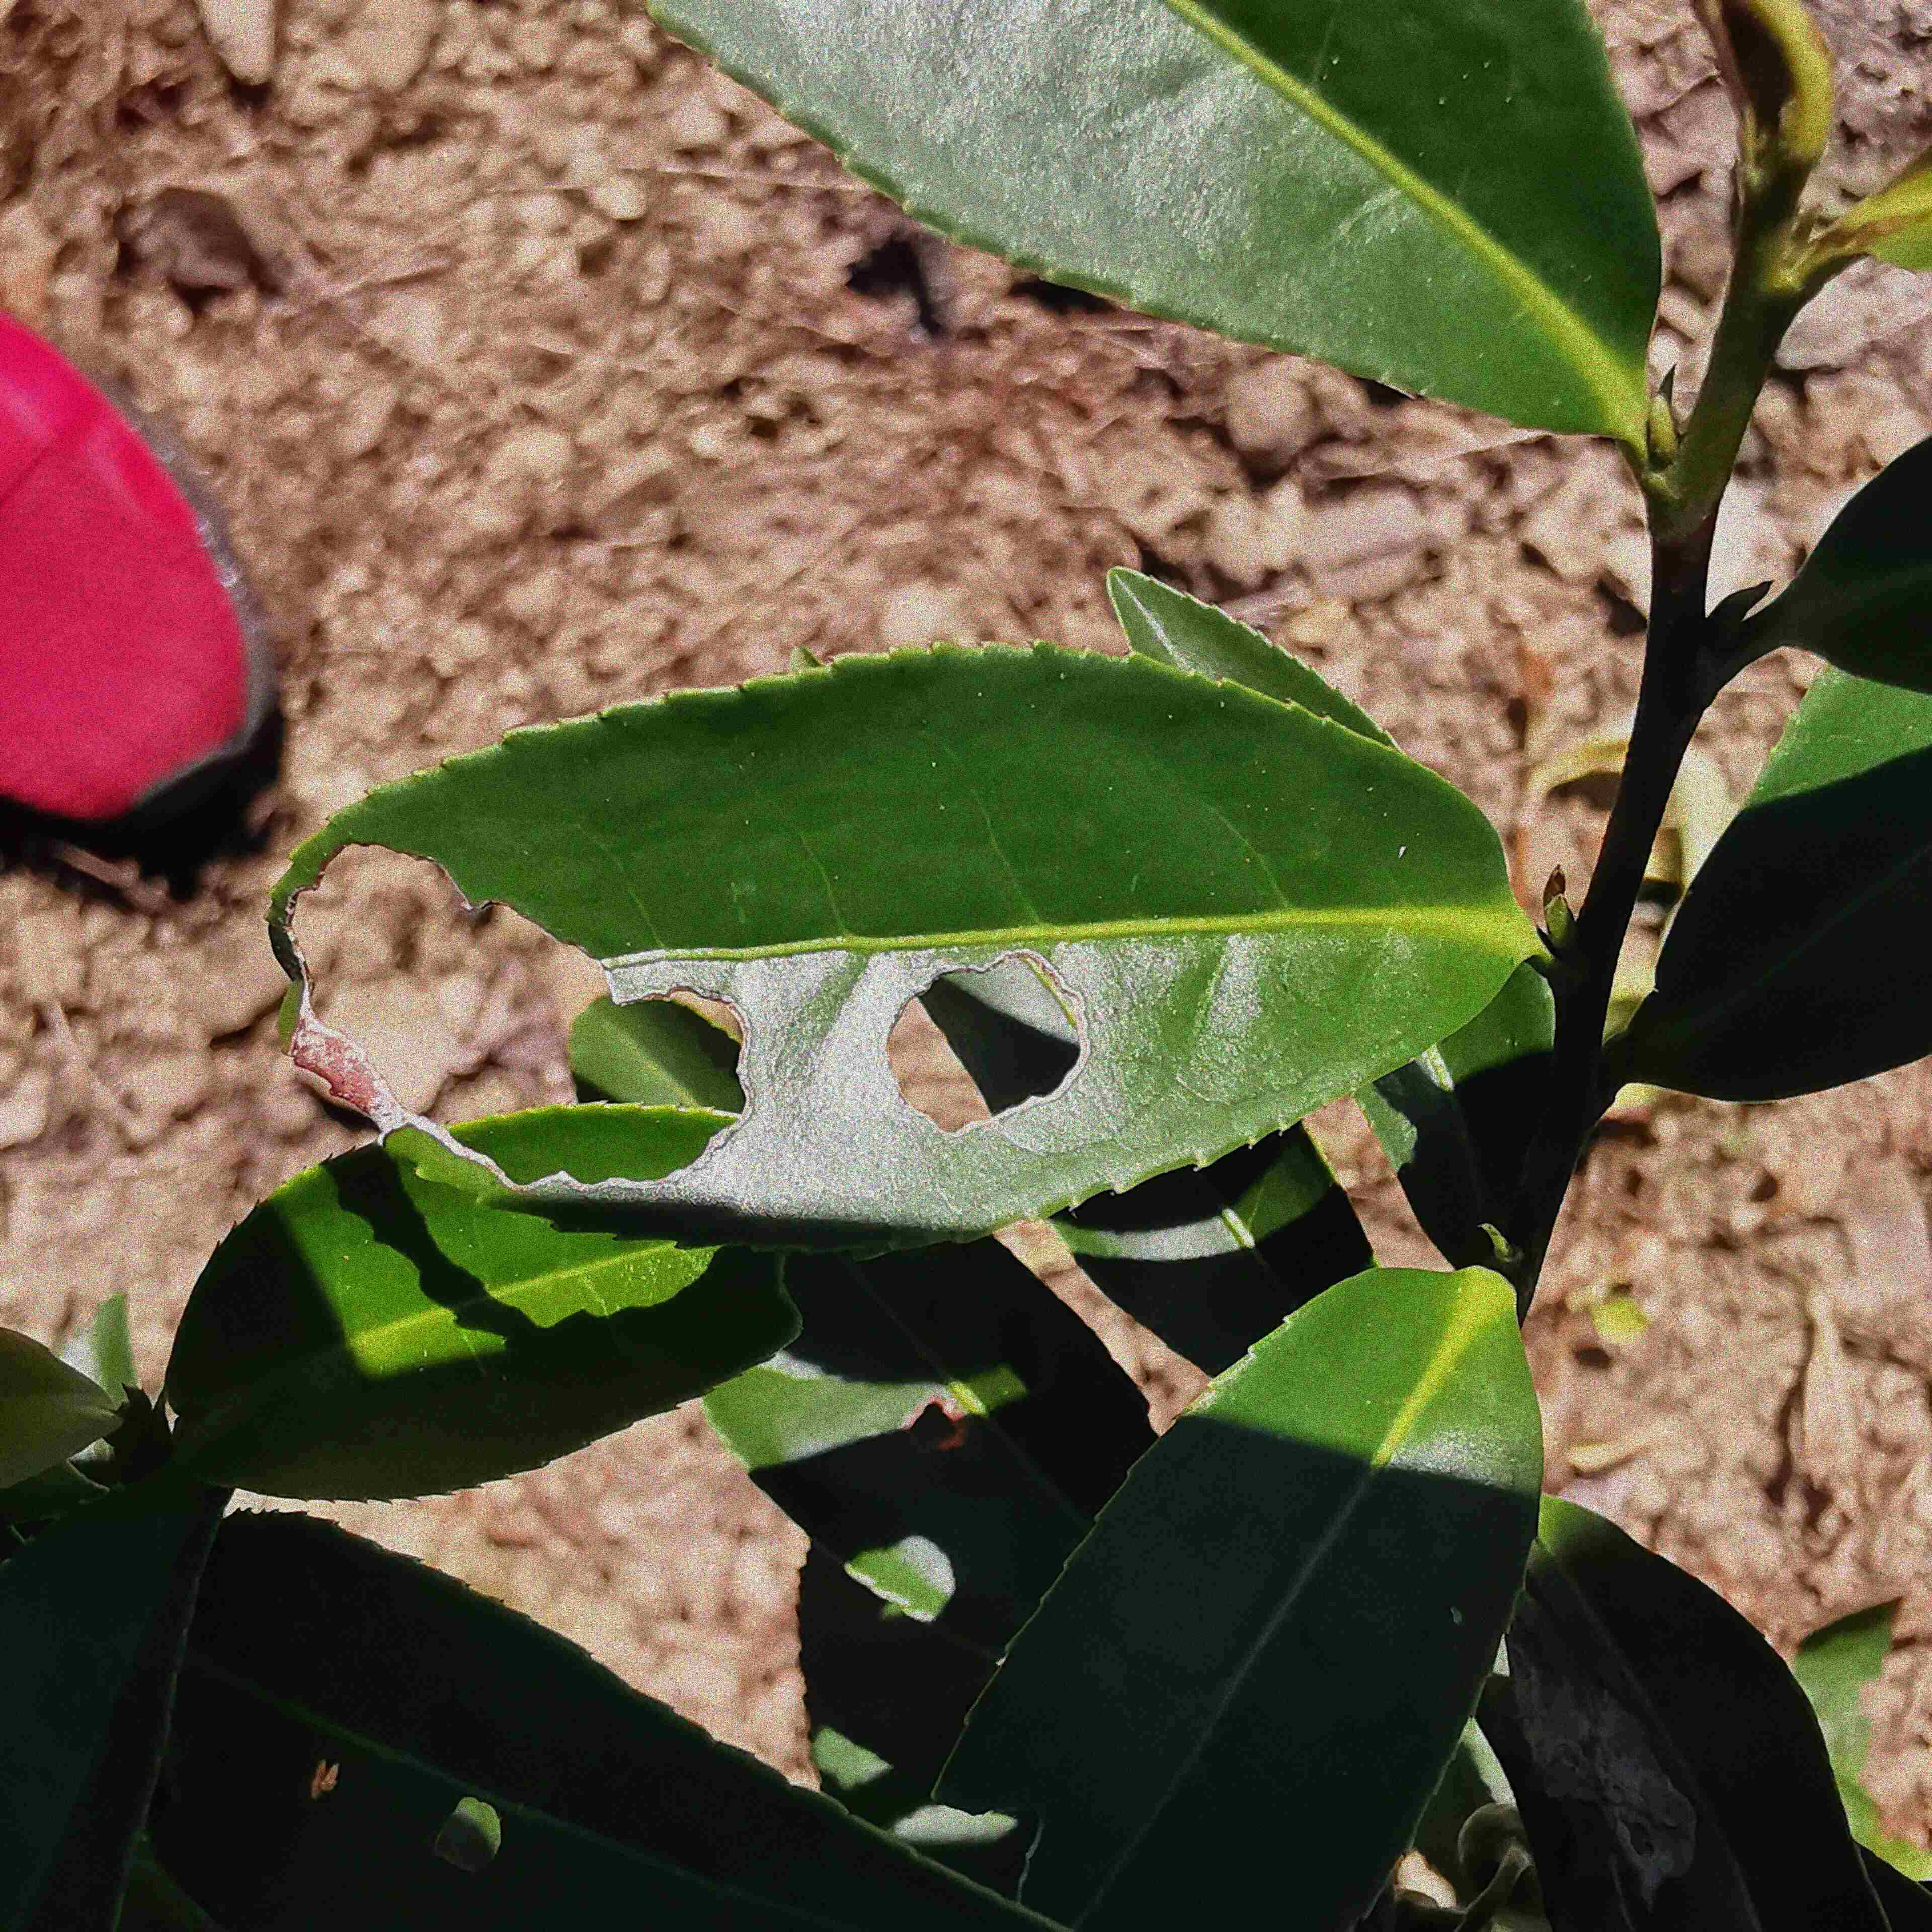chihuo_high: (262, 639, 1525, 1254)
chihuo_low: (925, 1256, 1546, 1907), (138, 1509, 1070, 1930)
